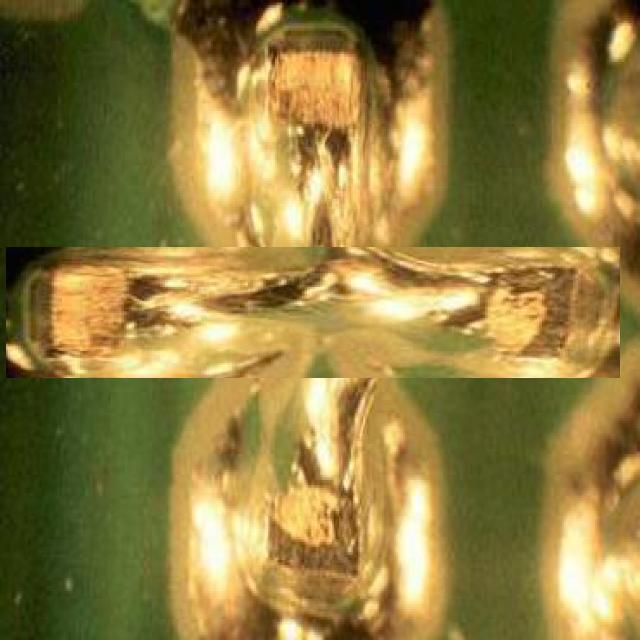Short_circuit: (127, 126, 499, 499)
